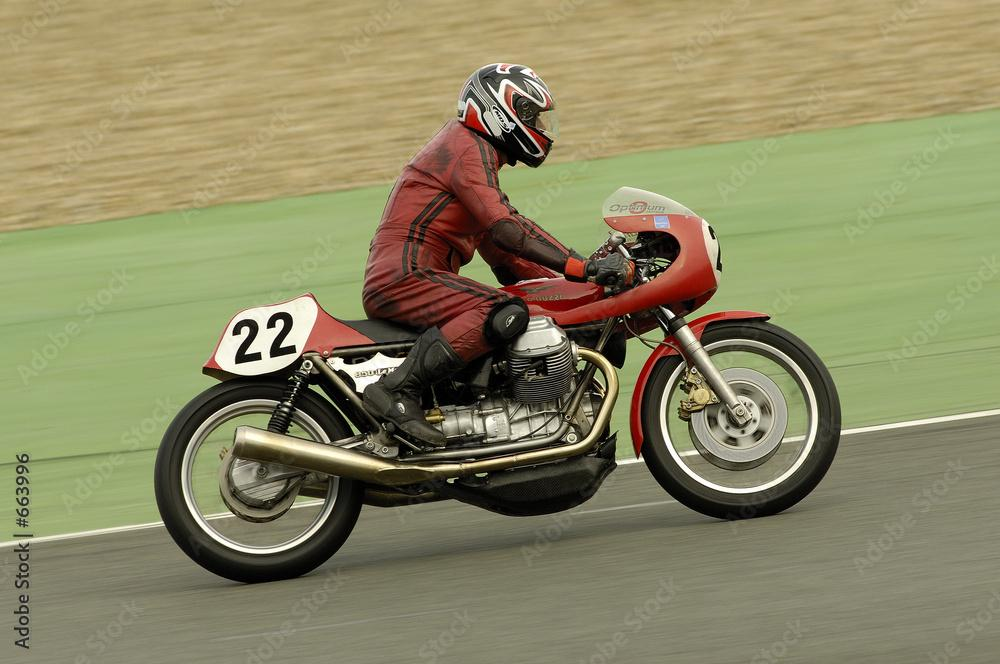helmet: (457, 61, 557, 169)
